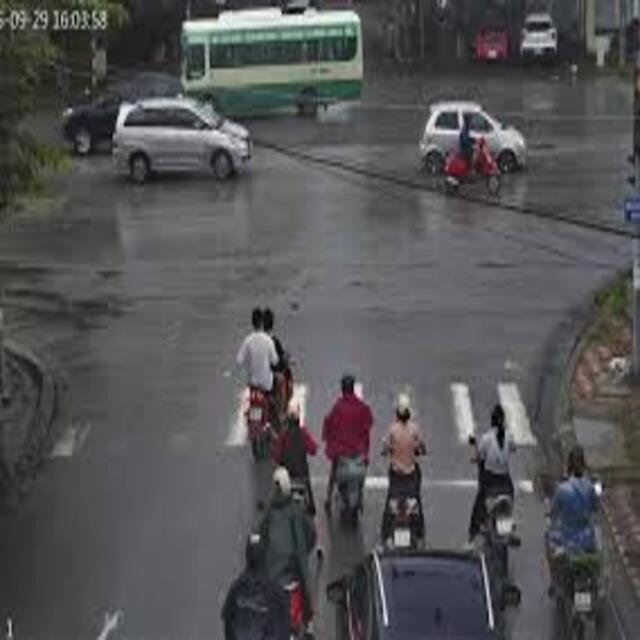car: (174, 8, 370, 128), (111, 97, 255, 183), (414, 92, 534, 176)
motorcycle: (551, 544, 605, 634), (478, 480, 527, 569), (443, 140, 502, 197), (327, 438, 366, 519), (239, 381, 272, 464), (382, 485, 419, 555)
